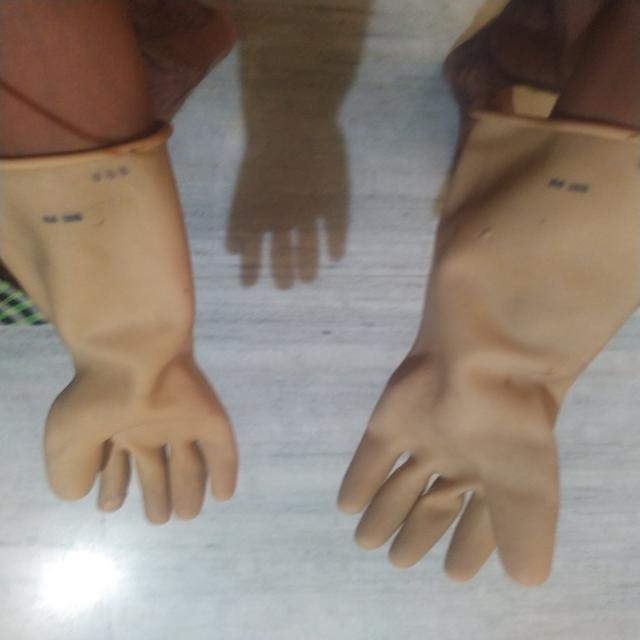gloved_hand: (330, 107, 640, 594), (0, 123, 242, 532)
